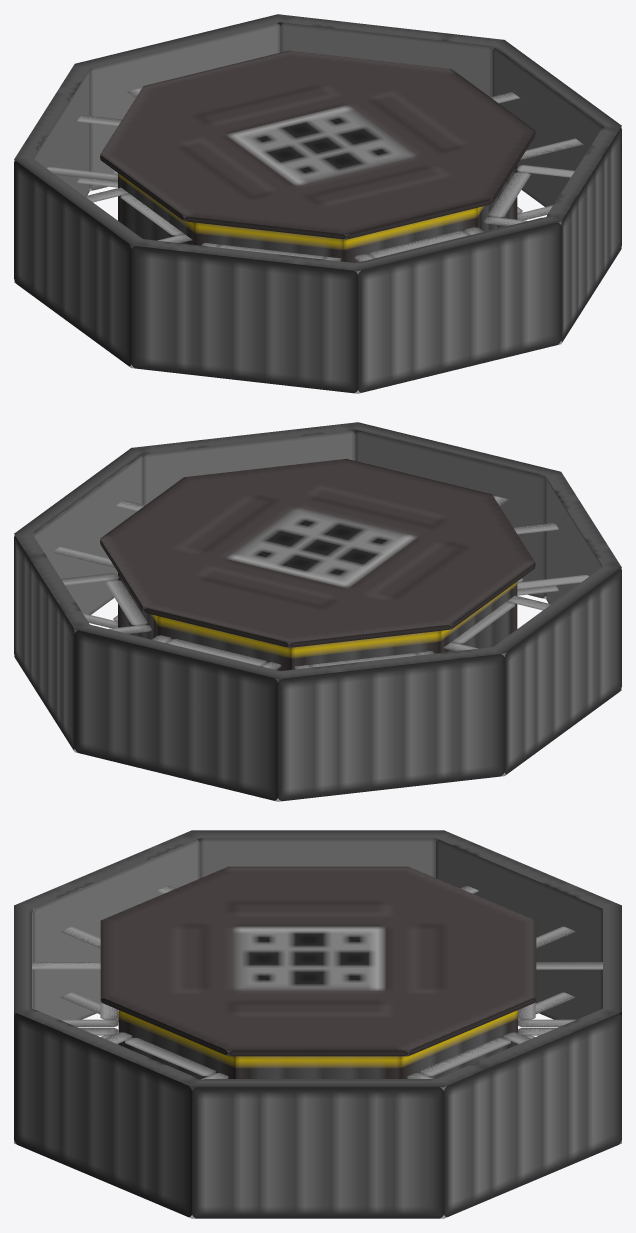
The model's file is fractioning_tower_separator.obj.
3 renders of one model, top to bottom at view 1: azimuth 30°, elevation 25°; view 2: azimuth 150°, elevation 25°; view 3: azimuth 270°, elevation 25°, orthographic. The views are drawn at different scales.
Visible parts, largest first — view 1: cube; view 2: cube; view 3: cube.
Boxes of the visible parts, x1,y1,x2,y2 form: cube: (14, 14, 621, 393); cube: (14, 422, 621, 801); cube: (14, 830, 621, 1218).
Size of the model in its own units: 4.19 by 1 by 4.19.
